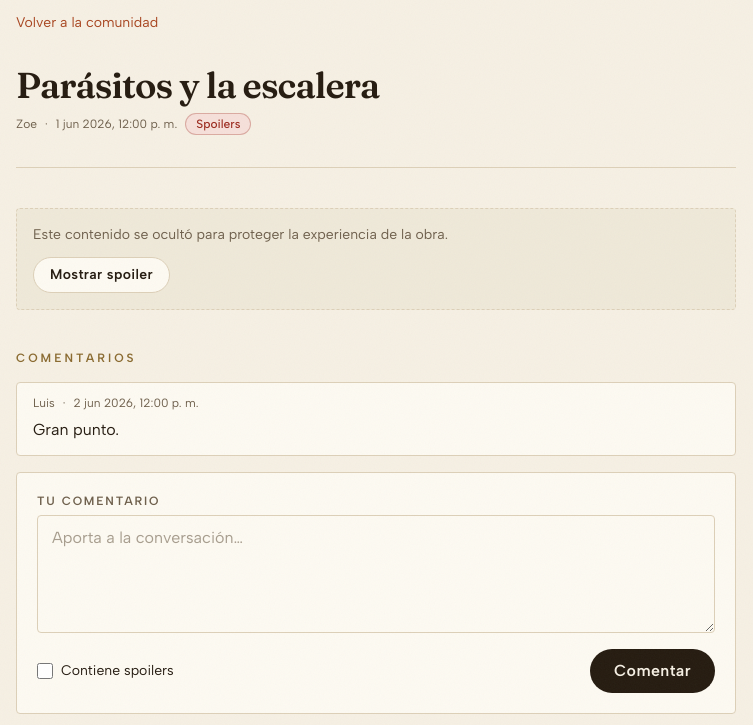
Test: DiscussionDetail › cubre el cuerpo con spoilers hasta revelarlo y lista los comentarios
The width and height of the screenshot is (753, 725).
Expected: the heading "Parásitos y la escalera" is shown, x1=16 y1=63 x2=379 y2=107
Expected: the text "El sótano lo cambia todo." is not shown
Click the button "Mostrar spoiler": (102, 275) x1=33 y1=257 x2=170 y2=293
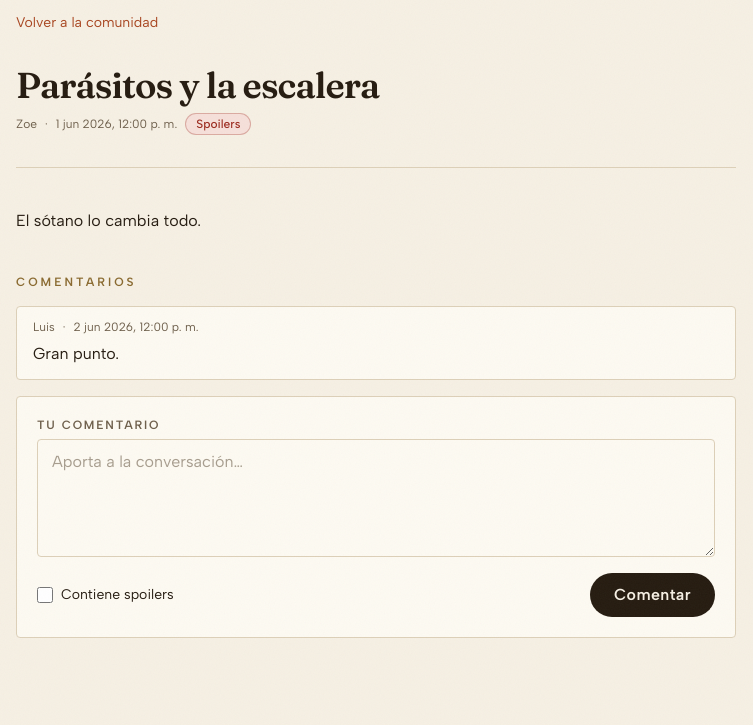
Expected: the text "Luis" is shown, x1=33 y1=319 x2=55 y2=335
Now the text "El sótano lo cambia todo." is shown, box x1=16 y1=211 x2=201 y2=230
